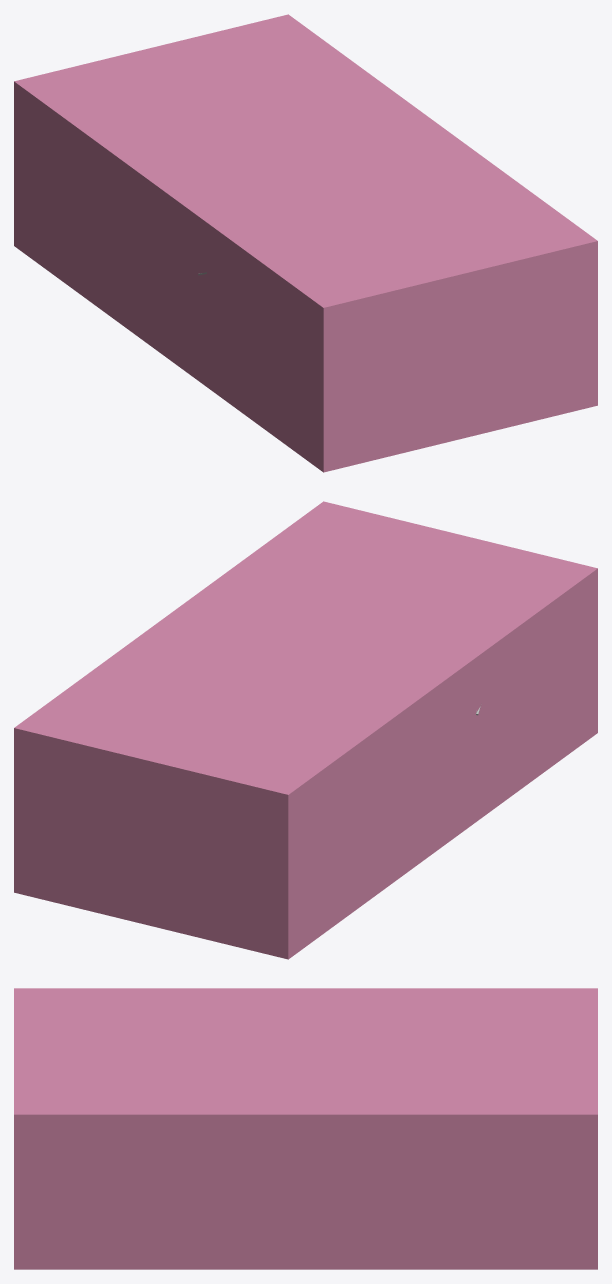
File: ind_bld_01b.dae
3 views of the same model, one above another, from view 1: azimuth 30°, elevation 25°; view 2: azimuth 150°, elevation 25°; view 3: azimuth 270°, elevation 25° (orthographic). The views are drawn at different scales.
Visible parts, largest first — view 1: Untitled; view 2: Untitled; view 3: Untitled.
Boxes of the visible parts, bbox=[...] form: Untitled: bbox=[14, 14, 597, 472]; Untitled: bbox=[14, 501, 597, 959]; Untitled: bbox=[14, 988, 597, 1269].
Bounding box in the file's own units: 21.43 × 41.42 × 12.15.
